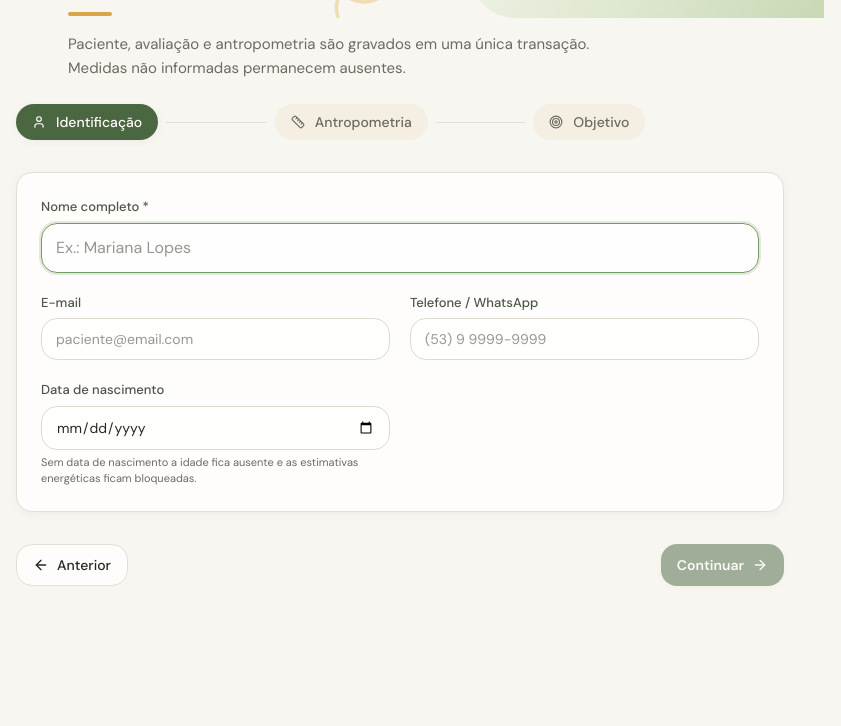
Test: PatientWizard › surfaces the transaction error instead of navigating away
Type "Mariana Lopes" into the field labelled "Nome completo *".
click(400, 248); type("Mariana Lopes")  # box [41,223,759,273]
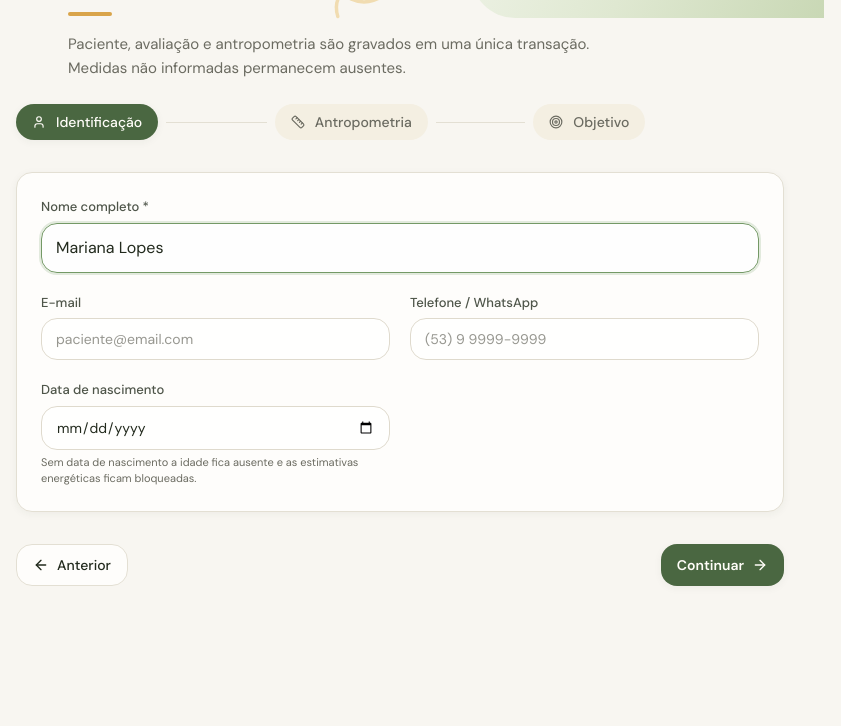
Click the button "Continuar".
click(722, 565)  # box [661,544,784,586]
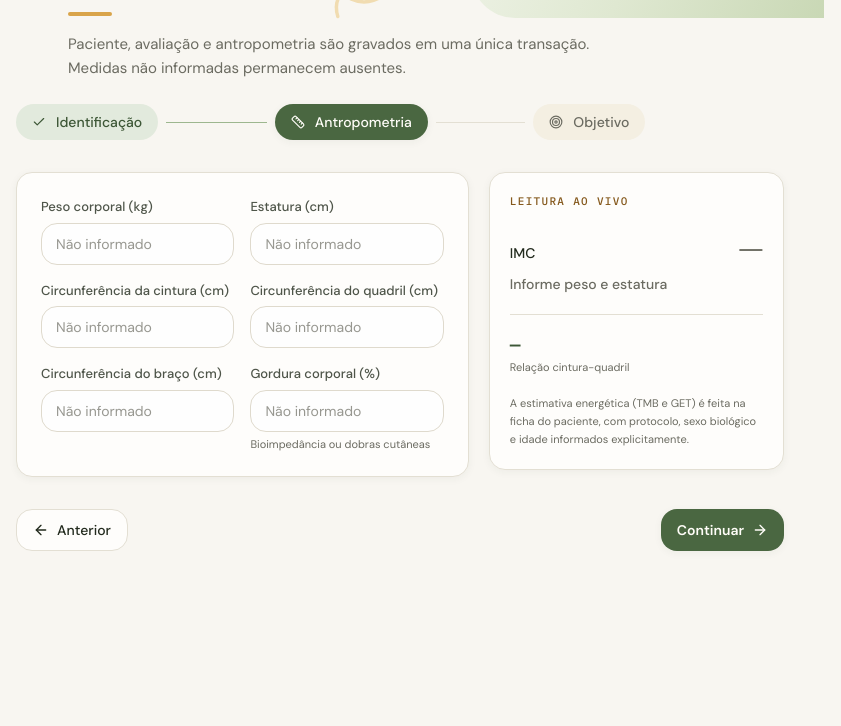
Click the button "Continuar".
click(722, 530)  # box [661,509,784,551]
(page scrolled)
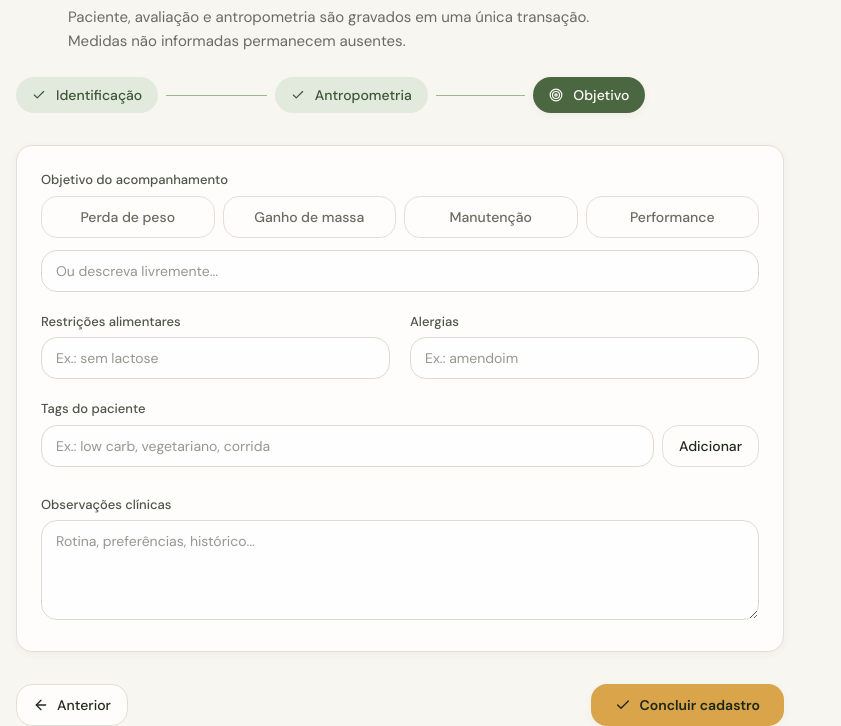
Click the button "Concluir cadastro".
click(688, 705)  # box [592,684,784,725]
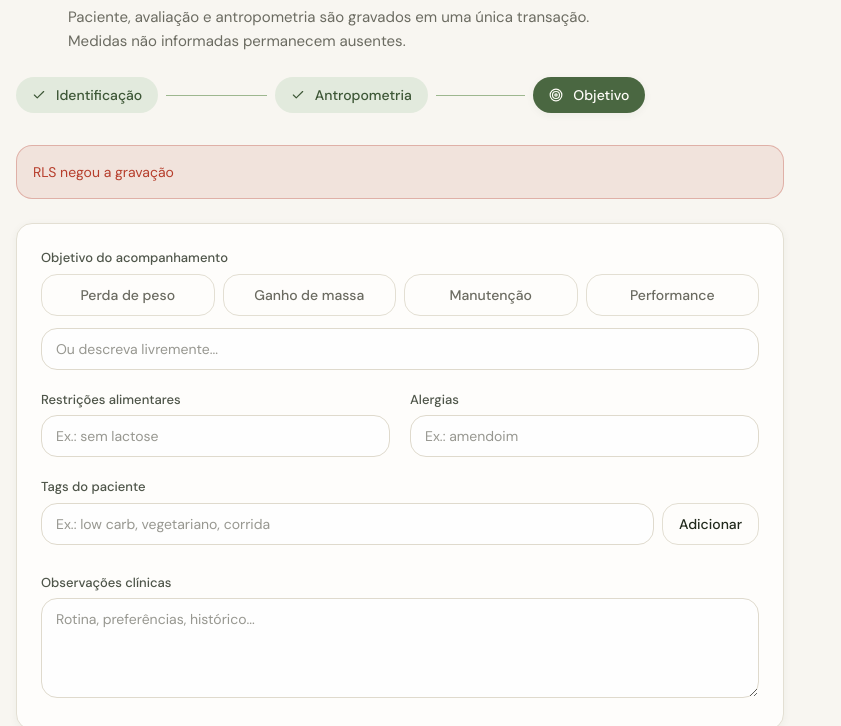
Expected: the message reads "RLS negou a gravação", [33,163,174,181]
